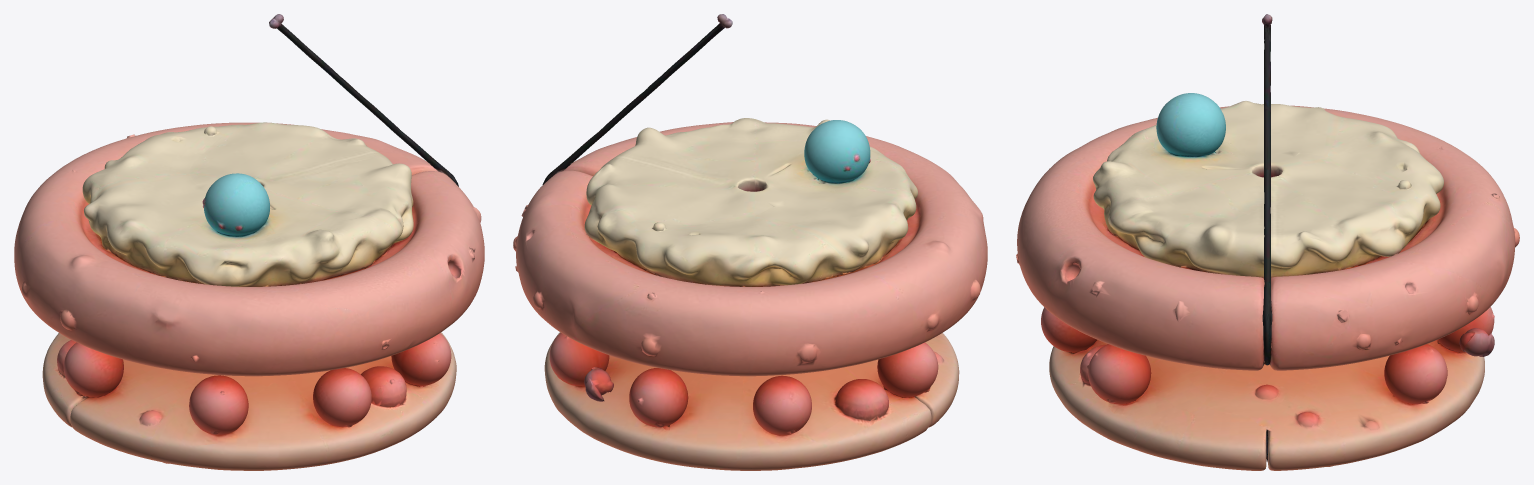
Rendered from env_nest_table_01.glb.
3 views of the same model, side by side, from view 1: azimuth 30°, elevation 25°; view 2: azimuth 150°, elevation 25°; view 3: azimuth 270°, elevation 25° (orthographic). The views are drawn at different scales.
Parts seen in each view (by area): view 1: tripo_node_8bd8a044-5361-496d-92a9-277e22919728; view 2: tripo_node_8bd8a044-5361-496d-92a9-277e22919728; view 3: tripo_node_8bd8a044-5361-496d-92a9-277e22919728.
Boxes of the visible parts, x1=… form: tripo_node_8bd8a044-5361-496d-92a9-277e22919728: x1=14, y1=14, x2=484, y2=470; tripo_node_8bd8a044-5361-496d-92a9-277e22919728: x1=513, y1=14, x2=987, y2=470; tripo_node_8bd8a044-5361-496d-92a9-277e22919728: x1=1016, y1=14, x2=1519, y2=470.
Bounding box in the file's own units: 1.02 × 0.9 × 1.02.
Materials: 1 (1 with a texture image).
